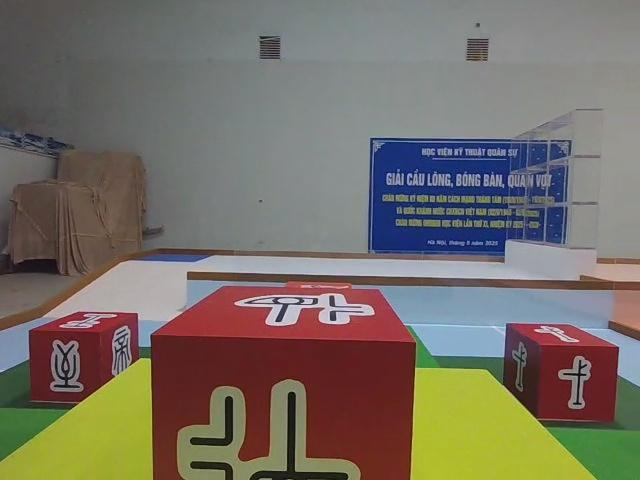R2 Fake: (29, 311, 139, 415)
R2 Real: (151, 284, 417, 480), (505, 323, 620, 434)
